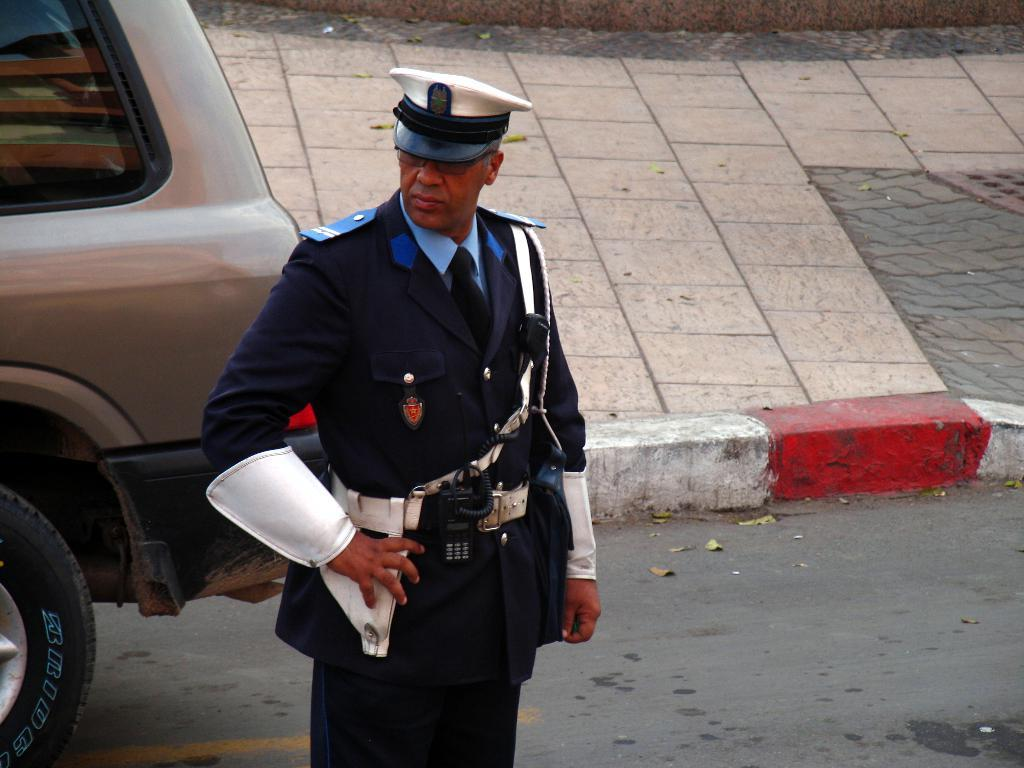Hat: (388, 68, 532, 162)
